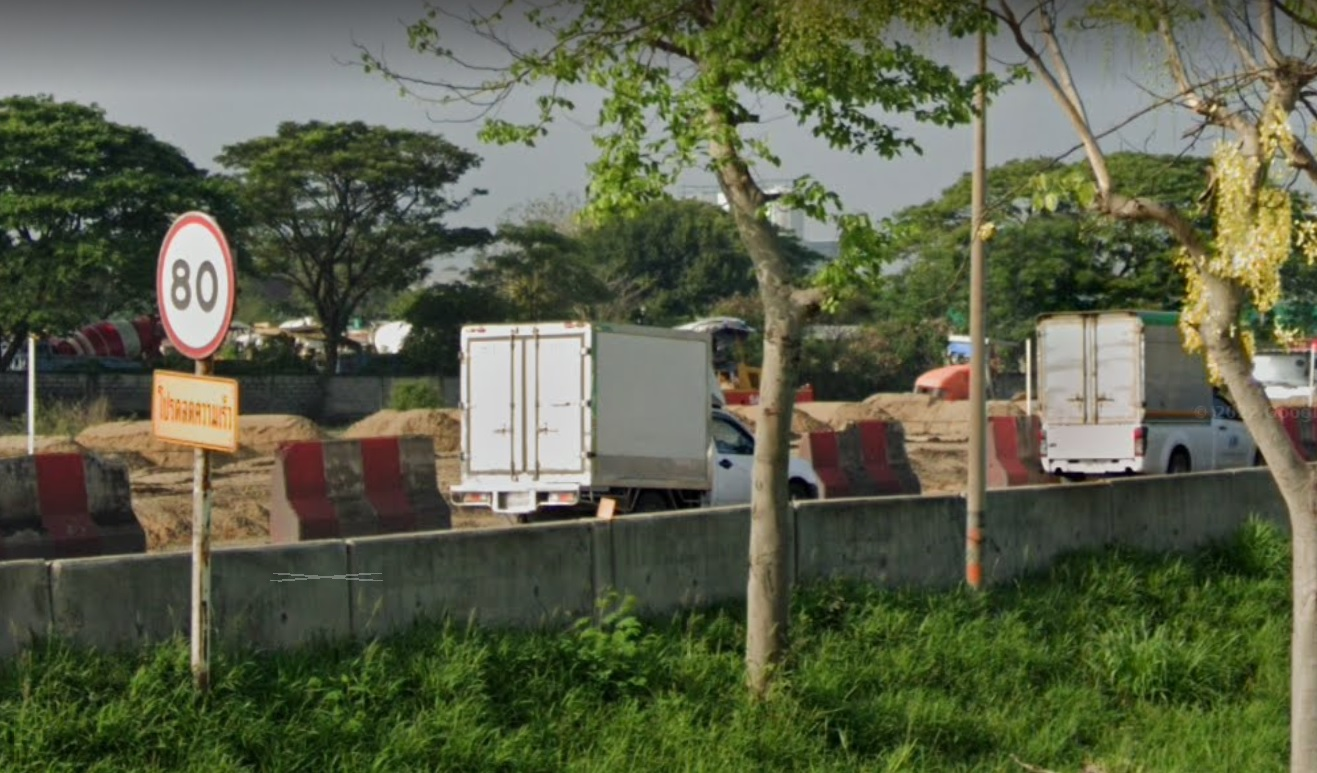80KPH: (151, 205, 239, 363)
